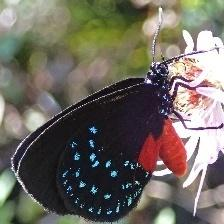butterfly: (12, 62, 187, 222)
